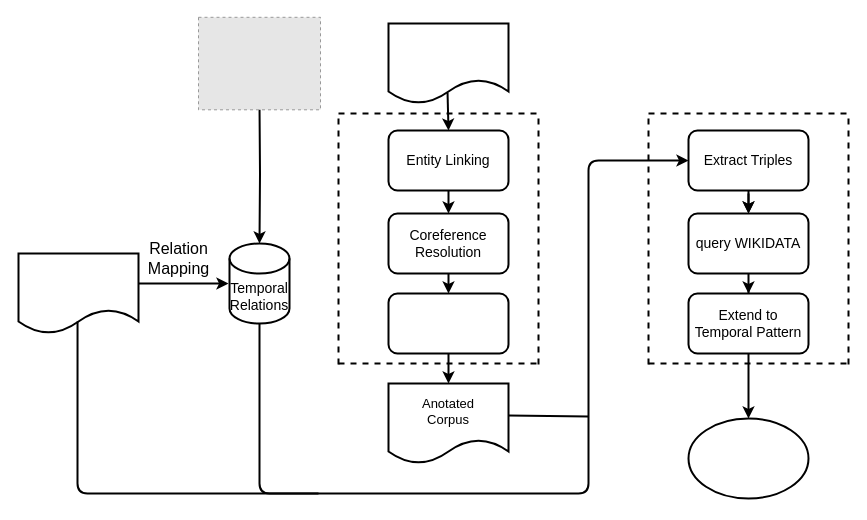
Image size: 867x520. Some labels were removed from this diagram. Grey dashed boxes stand in for pictures. The centre of each missing label's shape, as x and y in pixels:
"Corpus" belongs at (x=448, y=63).
"freepal" belongs at (x=78, y=293).
"Temporal Instance" belongs at (x=748, y=458).
"Time Recognition and Normalization" belongs at (x=448, y=323).
